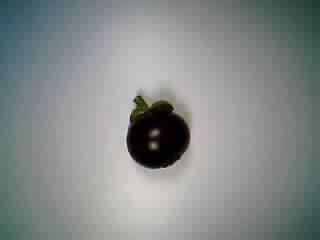mangosteen: (114, 89, 191, 172)
